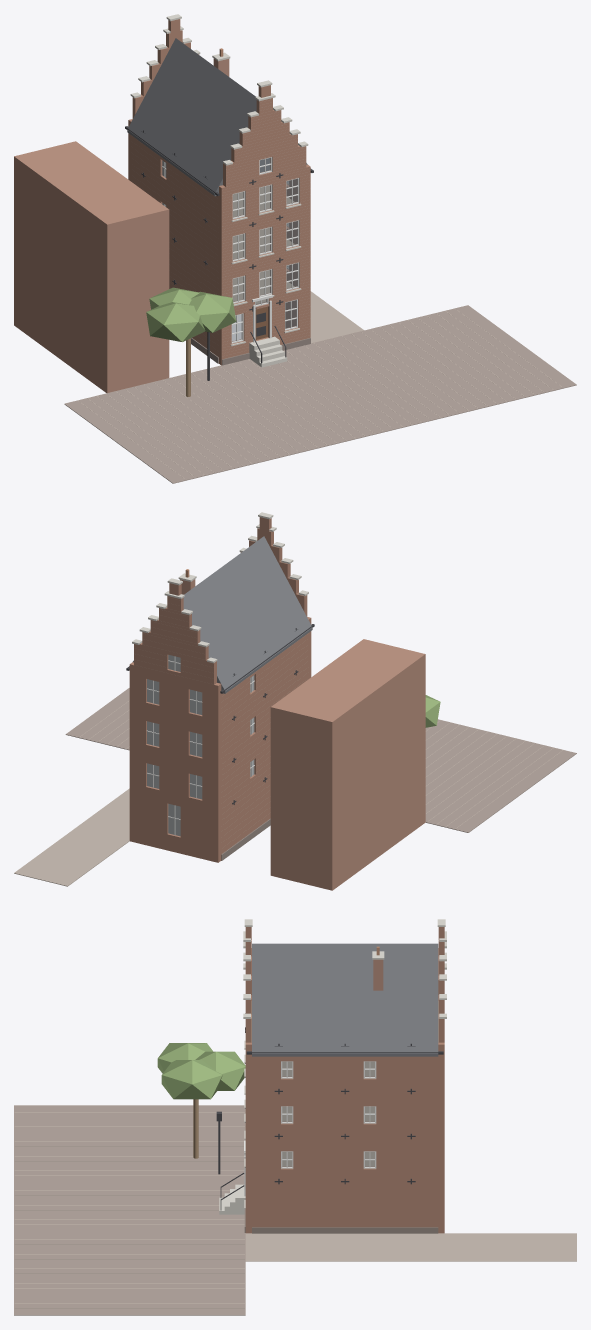
Rendered from clay-step-gable-canal-house-clay-v001.glb.
3 renders of one model, top to bottom at view 1: azimuth 30°, elevation 25°; view 2: azimuth 150°, elevation 25°; view 3: azimuth 270°, elevation 25°, orthographic. The views are drawn at different scales.
Visible parts, largest first — view 1: CLAY_SETTS, CLAY_BRICK, CLAY_WALL, CLAY_ROOF, CLAY_JOINT, CLAY_PLANTING, CLAY_TRIM, CLAY_GLASS, CLAY_STONE, CLAY_PAVING, CLAY_FLOOR, CLAY_HARDWARE; view 2: CLAY_BRICK, CLAY_WALL, CLAY_SETTS, CLAY_ROOF, CLAY_PAVING, CLAY_TRIM, CLAY_GLASS, CLAY_STONE, CLAY_JOINT; view 3: CLAY_SETTS, CLAY_WALL, CLAY_ROOF, CLAY_PAVING, CLAY_JOINT, CLAY_PLANTING, CLAY_STONE, CLAY_FOUNDATION, CLAY_HARDWARE, CLAY_FLOOR, CLAY_TRIM, CLAY_GLASS.
Part boxes in pixels (x1,y1,x2,y2): CLAY_SETTS: (64,305,576,483); CLAY_BRICK: (14,58,229,392); CLAY_WALL: (128,19,310,365); CLAY_ROOF: (127,38,307,196); CLAY_JOINT: (78,107,562,479); CLAY_PLANTING: (146,287,236,341); CLAY_TRIM: (161,157,299,343); CLAY_GLASS: (162,158,297,341); CLAY_STONE: (130,14,308,367); CLAY_PAVING: (310,291,363,343); CLAY_FLOOR: (233,185,294,304); CLAY_HARDWARE: (125,126,313,380); CLAY_BRICK: (180,579,425,890); CLAY_WALL: (129,517,311,862); CLAY_SETTS: (65,688,576,832); CLAY_ROOF: (129,536,312,693); CLAY_PAVING: (14,788,129,886); CLAY_TRIM: (146,655,254,836); CLAY_GLASS: (147,655,254,835); CLAY_STONE: (132,512,308,663); CLAY_JOINT: (79,597,562,828); CLAY_SETTS: (14,1105,245,1315); CLAY_WALL: (245,927,444,1233); CLAY_ROOF: (252,943,438,1056); CLAY_PAVING: (245,1233,576,1261); CLAY_JOINT: (15,1112,244,1308); CLAY_PLANTING: (157,1043,245,1099); CLAY_STONE: (219,919,446,1214); CLAY_FOUNDATION: (244,1209,438,1233); CLAY_HARDWARE: (216,1013,443,1210); CLAY_FLOOR: (251,1001,438,1166); CLAY_TRIM: (244,1061,376,1196); CLAY_GLASS: (282,1061,374,1166).
Bounding box in the file's own units: 30 × 19.22 × 34.
